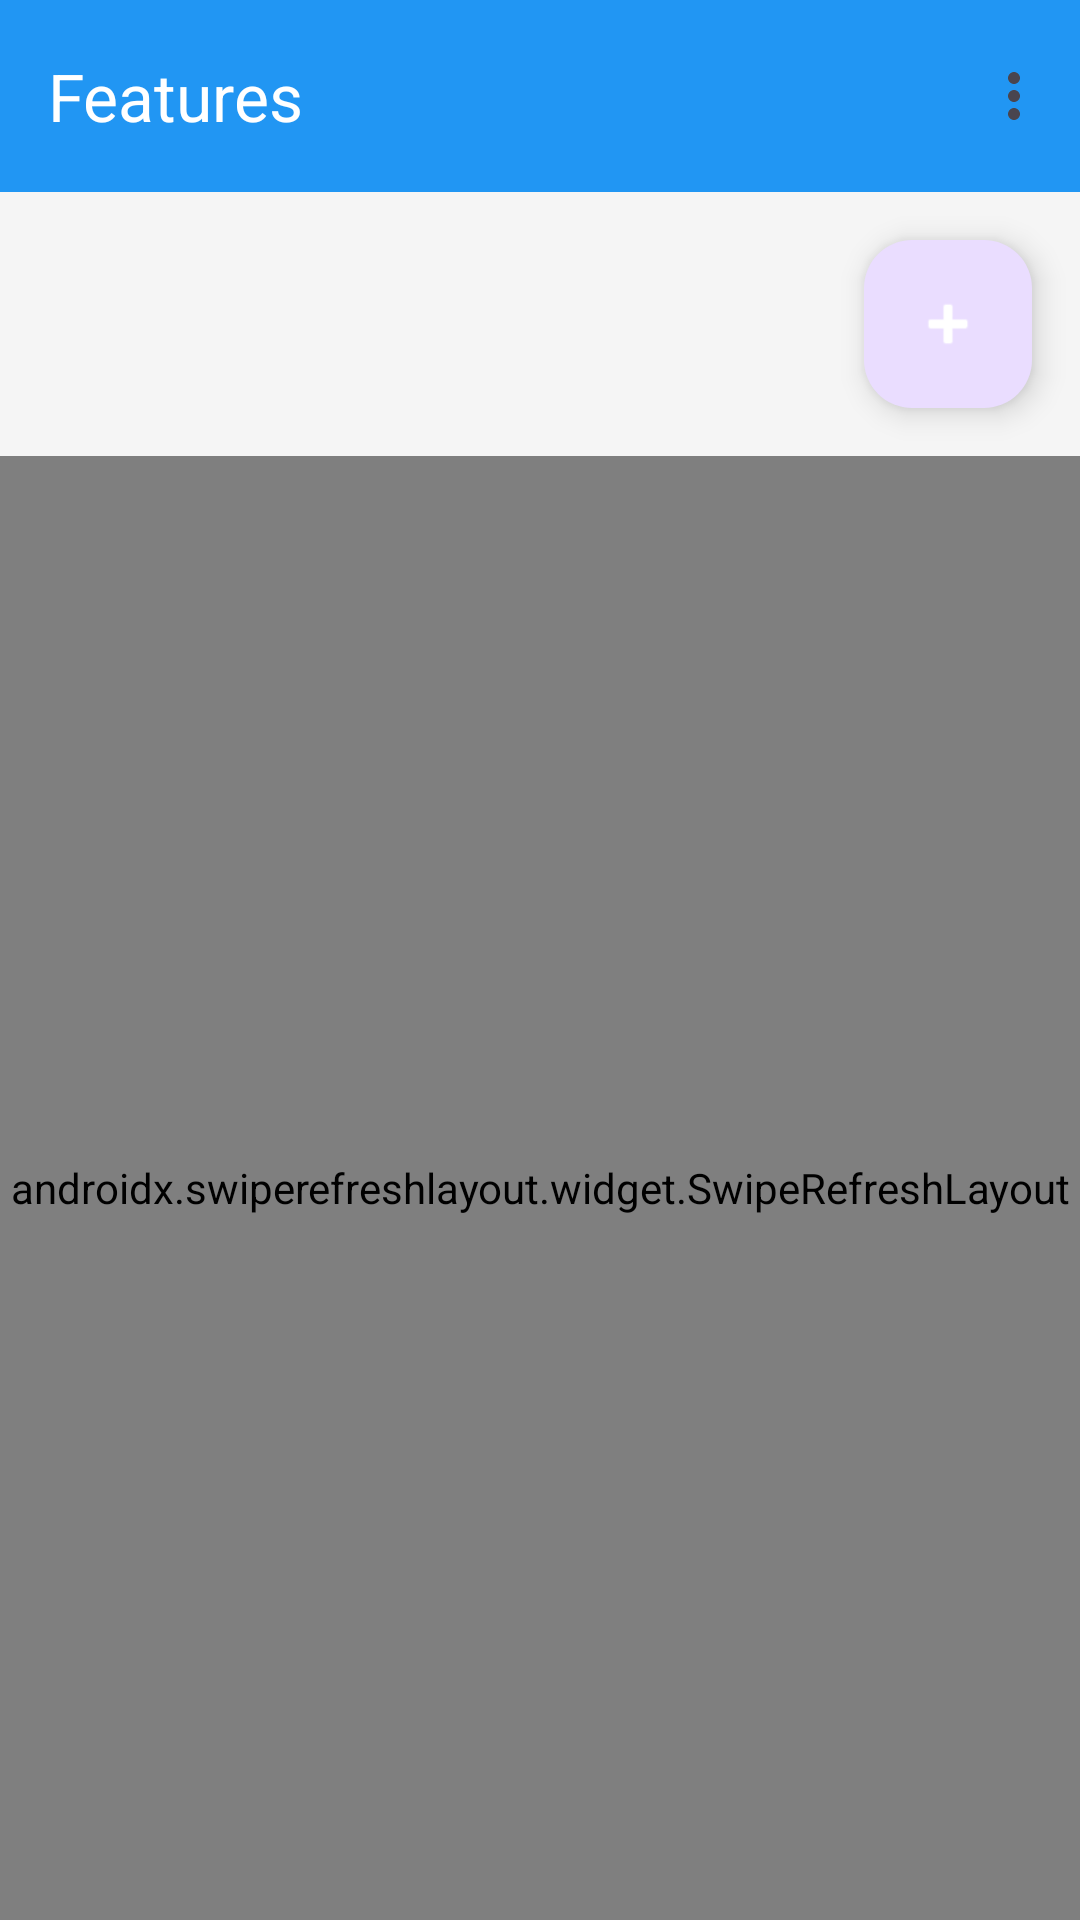

Icons on this 1080 x 1920 Android screen, each with its box as (x1, y1, x2, y2):
Create Feature: (864, 240, 1032, 408)
